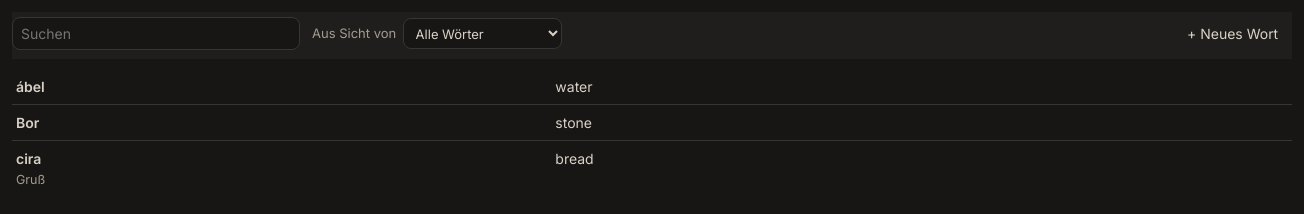
lists words alphabetically and searches
This screenshot has width=1304, height=214.
Expected: the number of list items is 3, [12, 68, 1292, 104]; [12, 104, 1292, 140]; [12, 140, 1292, 197]
In the search field labelled "Suchen": (156, 34) [12, 18, 300, 50], type "WATER"
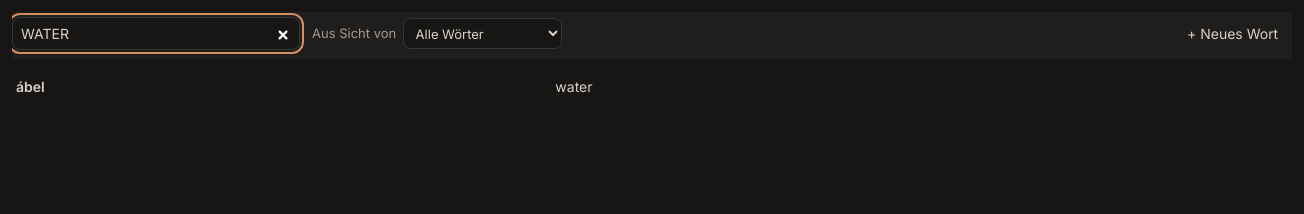
Expected: the list item shows "ábel", [12, 68, 1292, 104]
Expected: the number of list items is 1, [12, 68, 1292, 104]
Replace the text in the search field named "Suchen" with "gruß": (156, 34) [12, 18, 300, 50]
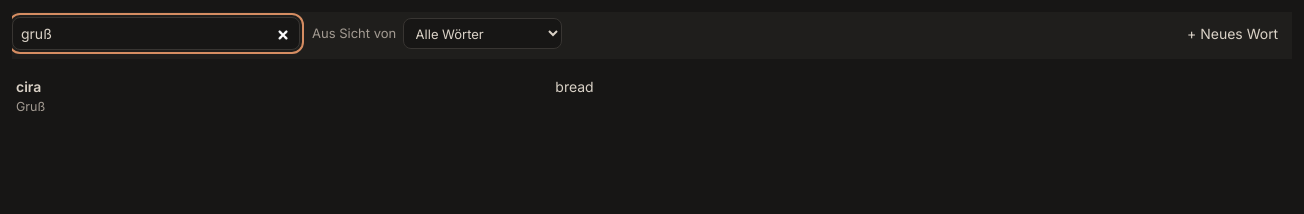
Expected: the list item shows "cira", [12, 68, 1292, 124]
In the search field named "Suchen": (156, 34) [12, 18, 300, 50], type "xyz"
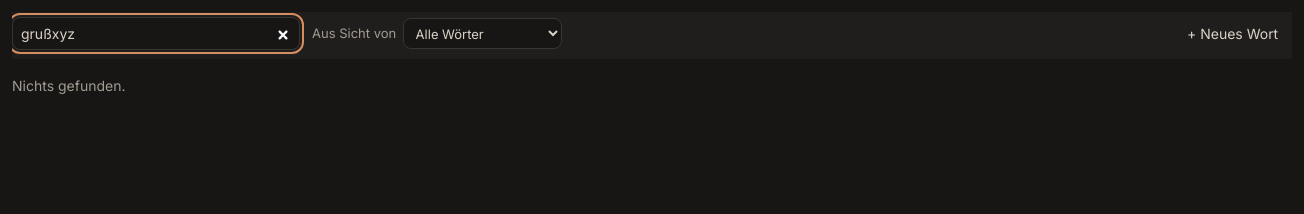
Expected: the text "Nichts gefunden." is shown, [12, 77, 126, 94]
